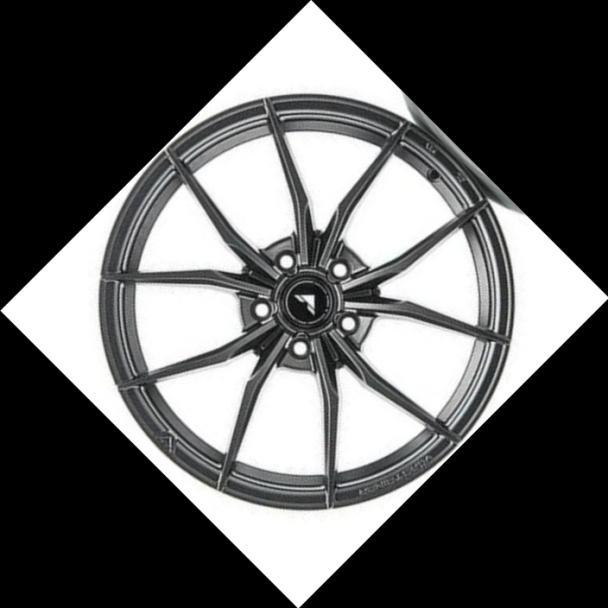hole: (267, 242, 302, 277), (243, 292, 276, 324), (322, 253, 354, 285), (283, 332, 314, 364), (330, 307, 361, 339)
